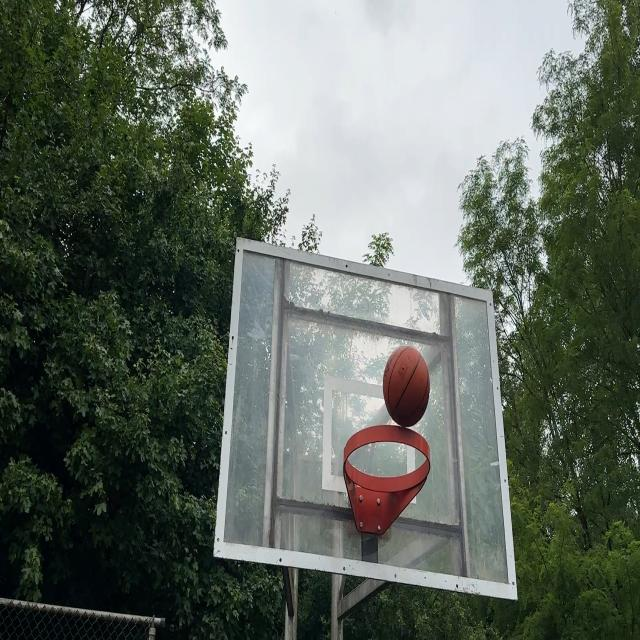rebound_hit: (382, 344, 429, 434)
